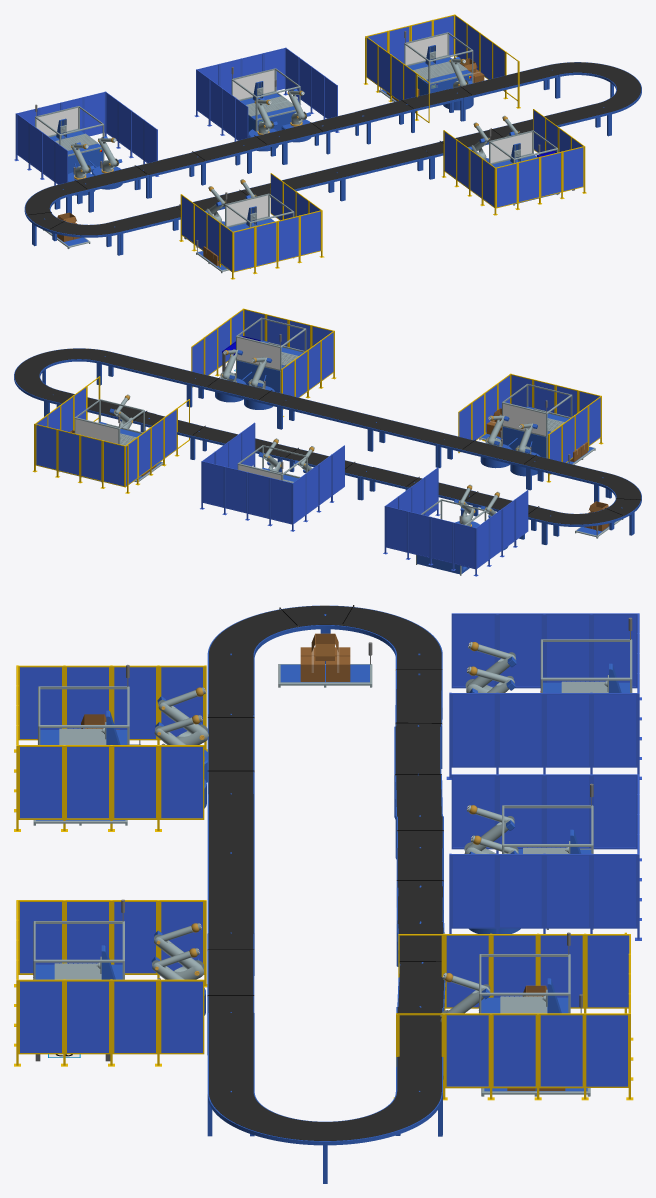
Rendered from Machines.fbx.
3 views of the same model, one above another, from view 1: azimuth 30°, elevation 25°; view 2: azimuth 150°, elevation 25°; view 3: azimuth 270°, elevation 25° (orthographic). The views are drawn at different scales.
Parts seen in each view (by area): view 1: deco, RC5, RC4, RC3, Conveyor8, Conveyor6, Conveyor12, RC2, RC1, Conveyor10, Conveyor, Conveyor15 (+14 smaller); view 2: deco, RC2, RC1, Conveyor8, Conveyor12, Conveyor14, Conveyor9, Conveyor, Conveyor11, RC5, Conveyor13, Conveyor15 (+14 smaller); view 3: deco, Conveyor8, Conveyor12, Conveyor9, Conveyor14, Conveyor, Conveyor6, Source, Conveyor10, Conveyor11, Conveyor13, Conveyor15 (+14 smaller).
Part boxes in pixels (x1,y1,x2,y2): deco: (14, 14, 586, 279); RC5: (404, 32, 473, 95); RC4: (231, 68, 300, 132); RC3: (35, 106, 104, 173); Conveyor8: (546, 62, 641, 135); Conveyor6: (451, 65, 558, 121); Conveyor12: (331, 146, 432, 200); RC2: (225, 193, 294, 268); RC1: (489, 130, 558, 205); Conveyor10: (33, 216, 120, 255); Conveyor: (512, 103, 610, 136); Conveyor15: (109, 206, 186, 254); deco: (32, 308, 603, 576); RC2: (502, 384, 572, 458); RC1: (236, 317, 306, 392); Conveyor8: (14, 348, 111, 416); Conveyor12: (279, 396, 382, 451); Conveyor14: (438, 434, 540, 489); Conveyor9: (189, 374, 291, 428); Conveyor: (99, 352, 201, 406); Conveyor11: (544, 505, 633, 544); RC5: (74, 399, 144, 445); Conveyor13: (370, 418, 449, 467); Conveyor15: (528, 457, 608, 502); deco: (14, 613, 641, 1100); Conveyor8: (207, 1091, 442, 1183); Conveyor12: (207, 853, 254, 975); Conveyor9: (207, 933, 254, 1054); Conveyor14: (207, 714, 254, 794); Conveyor: (207, 1013, 254, 1091); Conveyor6: (396, 1007, 443, 1091); Source: (278, 633, 372, 687); Conveyor10: (207, 605, 325, 663); Conveyor11: (325, 605, 442, 663); Conveyor13: (207, 794, 254, 853); Conveyor15: (207, 655, 254, 714).
Bounding box in the file's own units: 1062 × 98.91 × 526.
